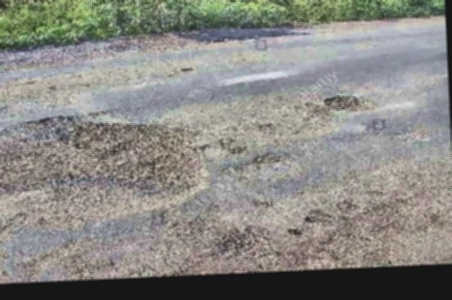pothole: (20, 107, 206, 212), (321, 91, 371, 115), (300, 208, 333, 223), (249, 152, 284, 165), (284, 227, 304, 237), (178, 65, 194, 74)
